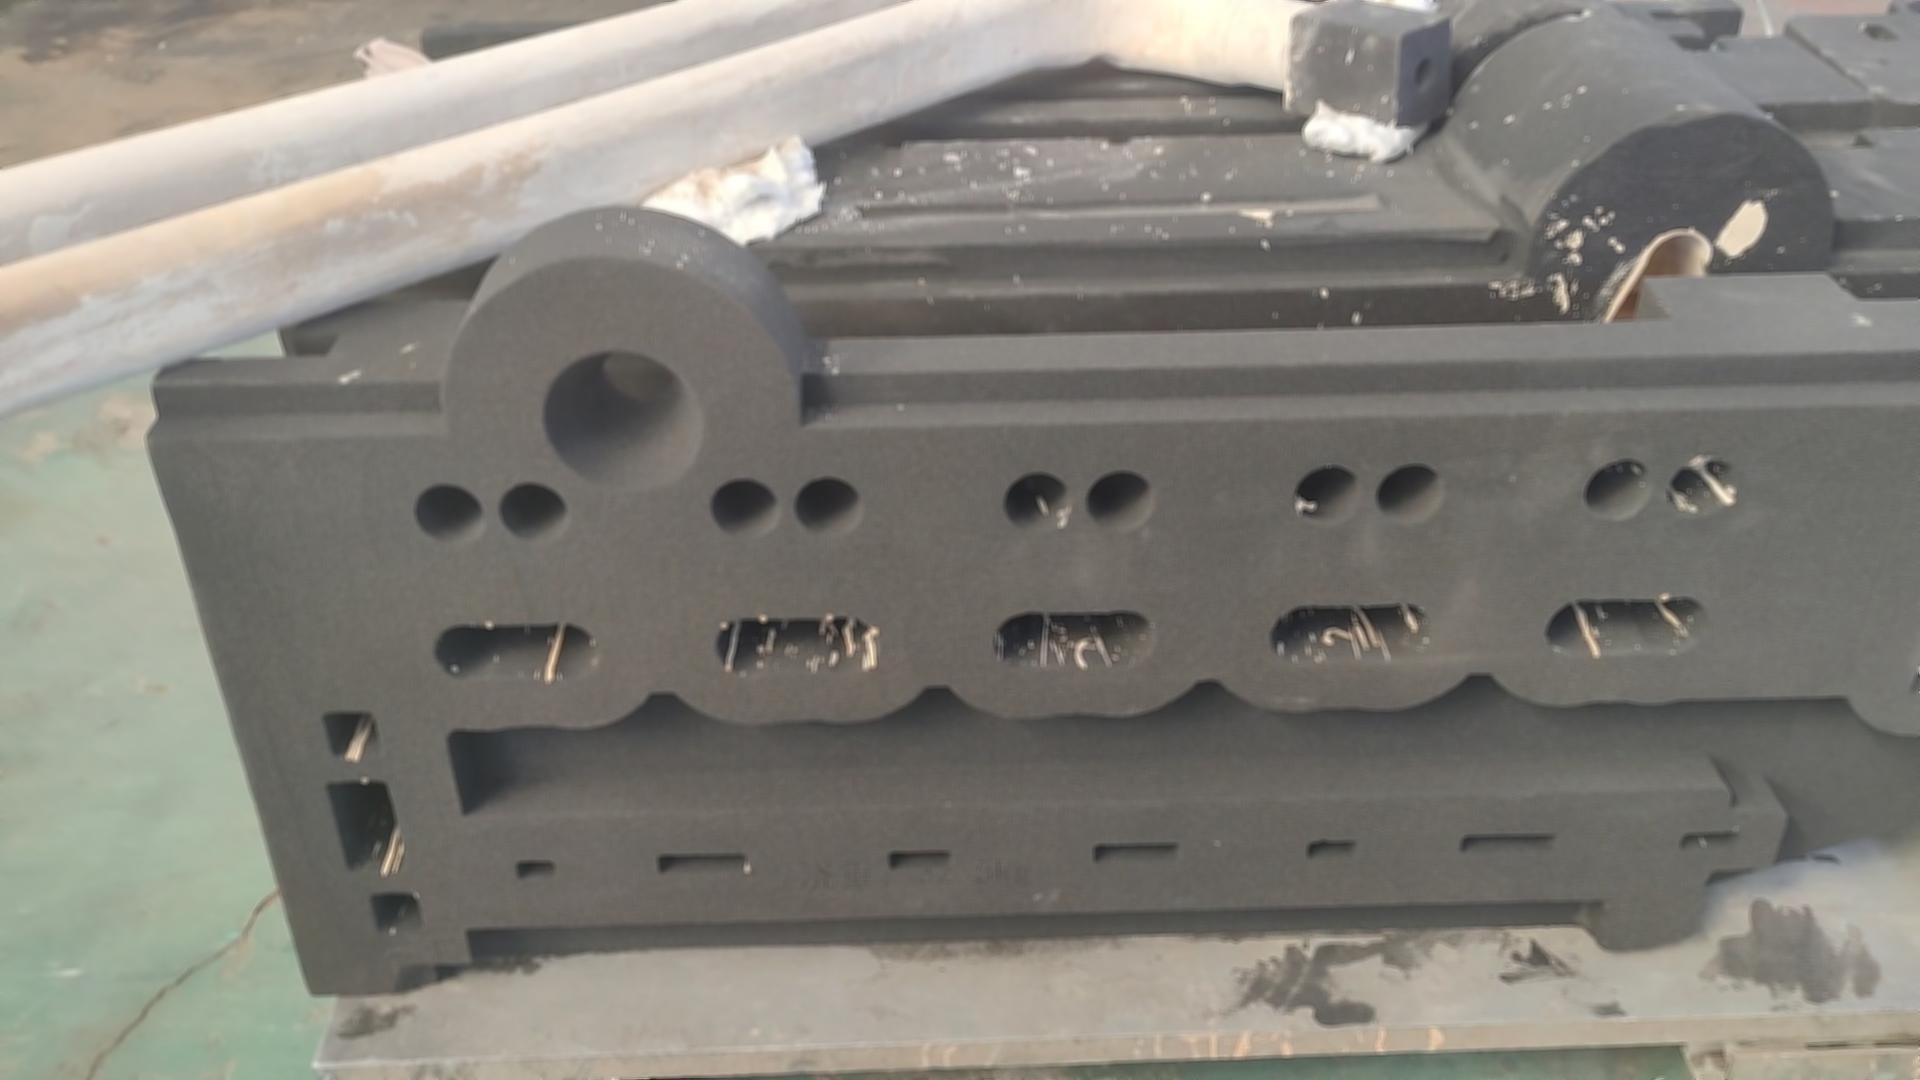pouring hole: (541, 348, 703, 491)
